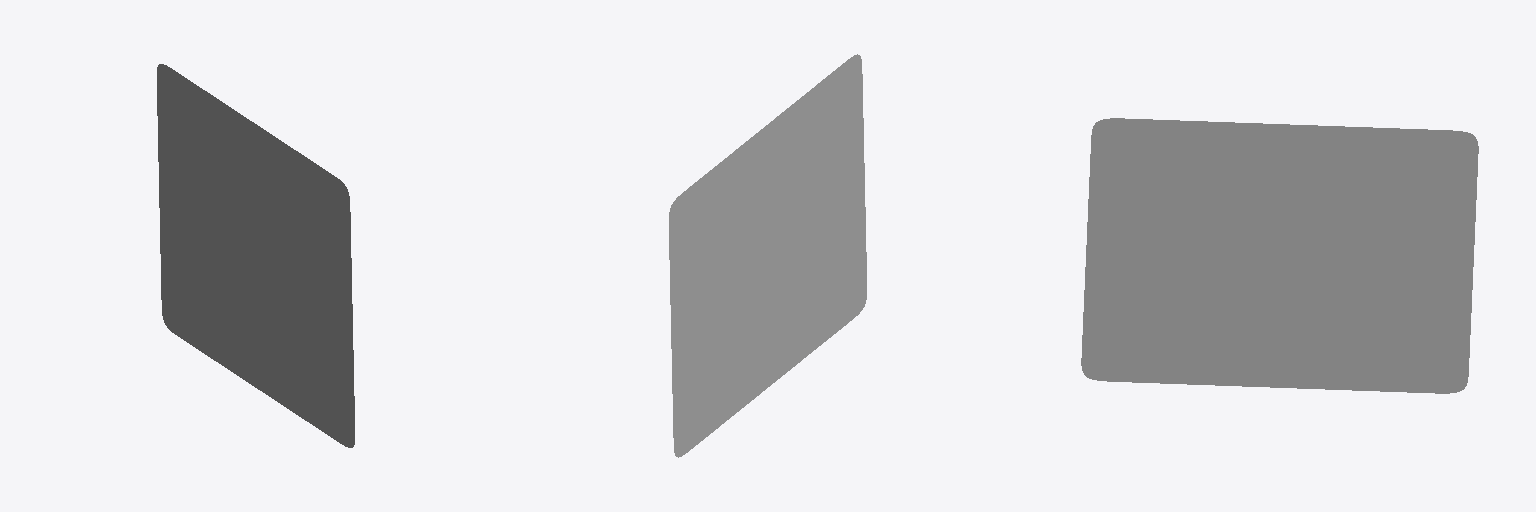
The model's file is homer.obj.
3 renders of one model, left to right at view 1: azimuth 30°, elevation 25°; view 2: azimuth 150°, elevation 25°; view 3: azimuth 270°, elevation 25°, orthographic.
Visible parts, largest first — view 1: homer_xray; view 2: homer_xray; view 3: homer_xray.
Boxes of the visible parts, <box> form: homer_xray: <box>157,64,354,447</box>; homer_xray: <box>669,54,866,457</box>; homer_xray: <box>1081,118,1478,393</box>.
Bounding box in the file's own units: 0 × 0.8859 × 1.16.